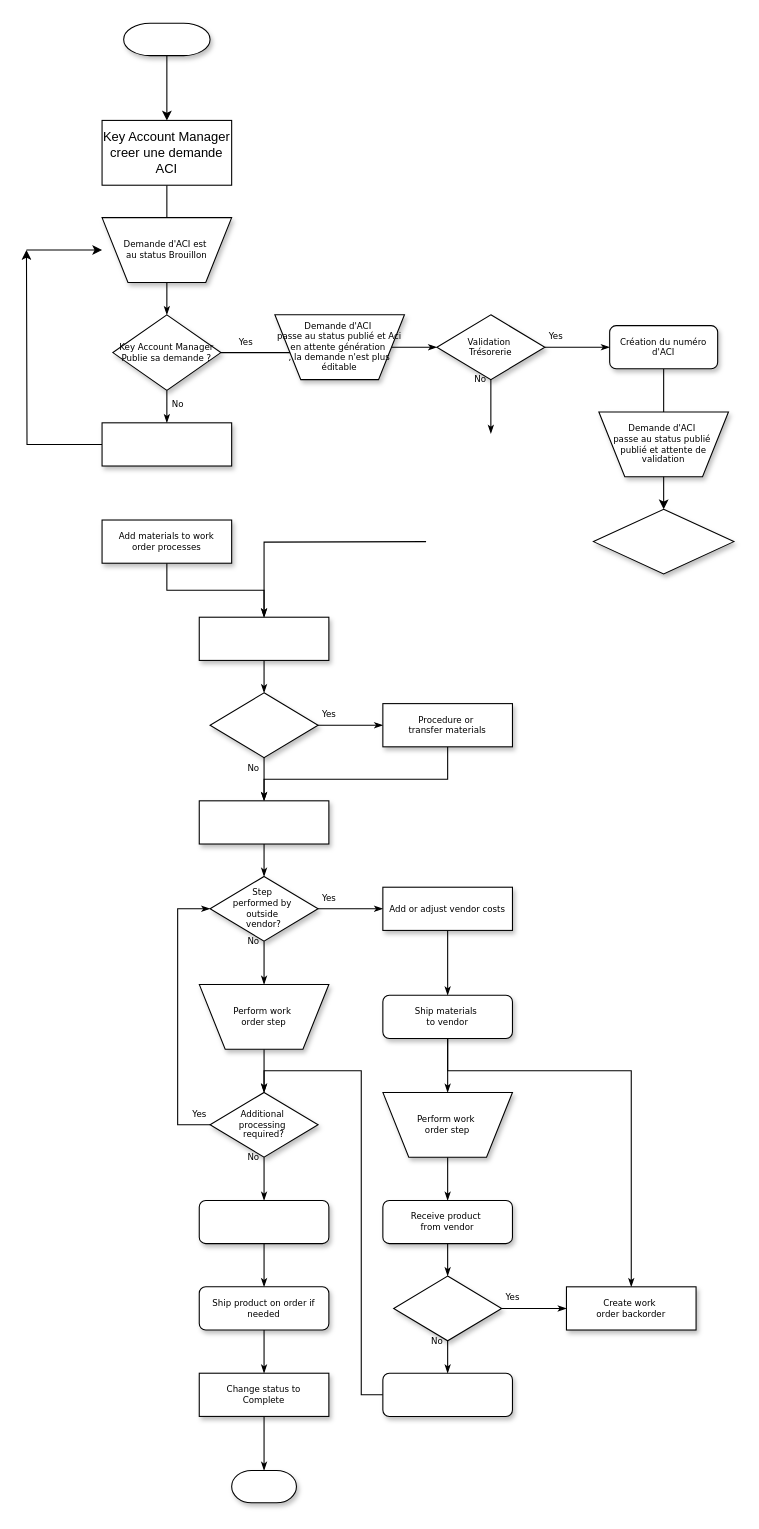
Image size: 759x1529. Some labels were removed from this diagram. The centre of each missing label's shape, as x and y in pixels:
"Change status to In Process" goes at (x=264, y=823).
"Debut" goes at (x=167, y=40).
"Edition de la demande d'ACI" goes at (x=167, y=445).
"End" goes at (x=264, y=1487).
"Material quantities not in stock?" goes at (x=265, y=726).
"Monitor work orders" goes at (x=264, y=640).
"Only partial quality received?" goes at (x=448, y=1309).
"Pay vendor invoice" goes at (x=448, y=1396).
"Receive info stock" goes at (x=264, y=1223).
"Validation Responsable Trésorerie" goes at (x=664, y=543).
